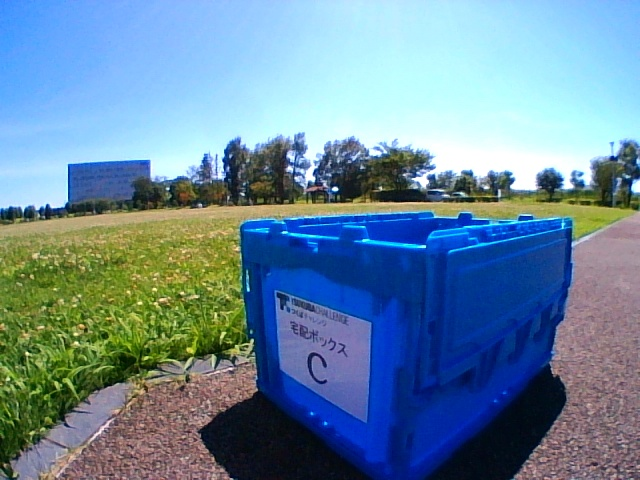blue_box: (240, 212, 572, 480)
tag_c: (290, 319, 350, 385)
